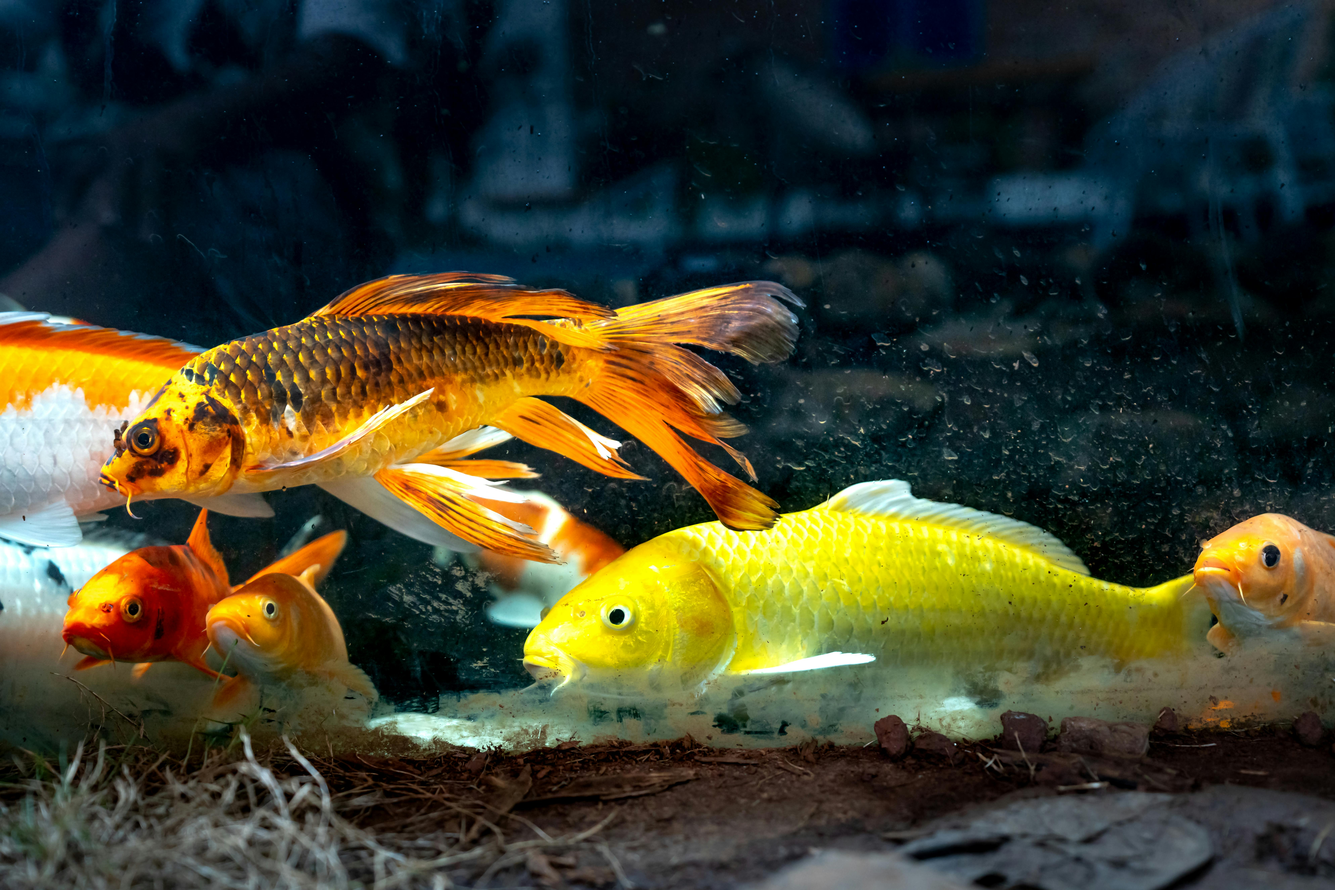fishes: (84, 274, 807, 586), (520, 480, 1301, 702)
